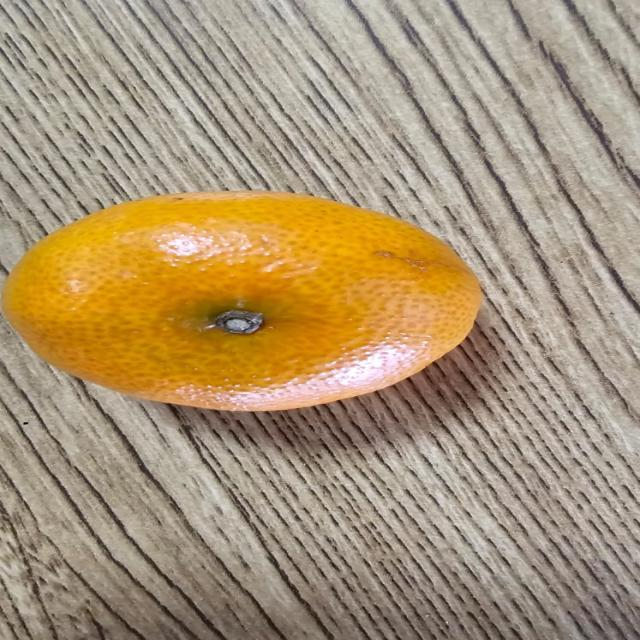Jeruk Mandarin: (0, 186, 488, 417)
